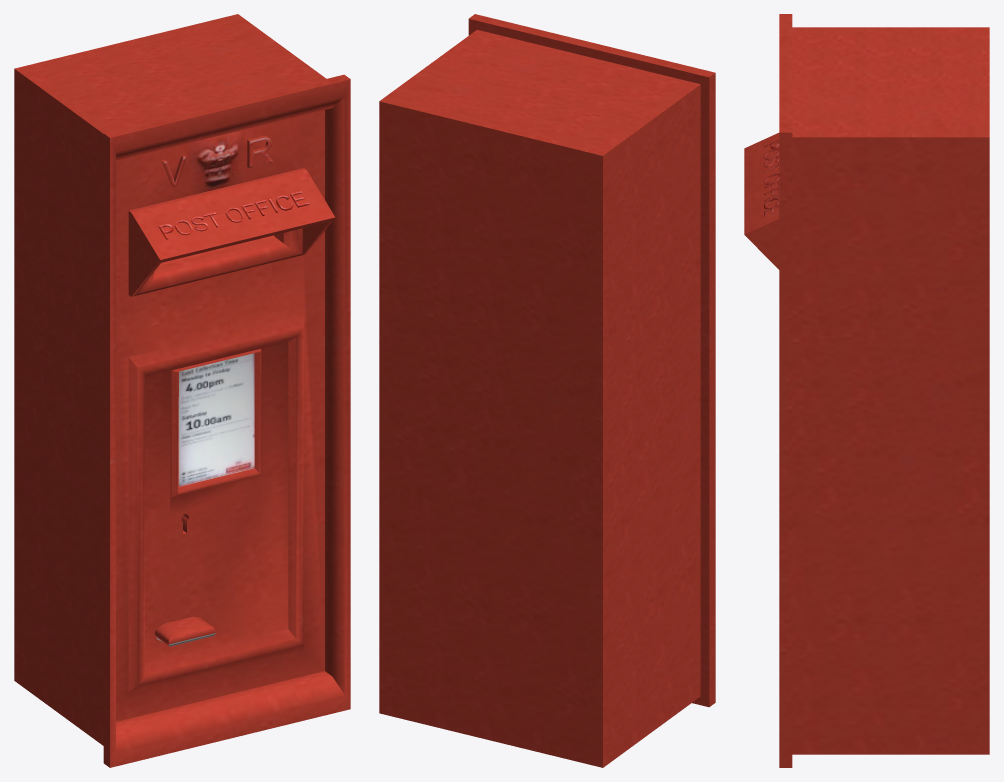
Rendered from UKInsetPostBox01.fbx.
The picture shows the model from 3 angles, left to right: view 1: azimuth 30°, elevation 25°; view 2: azimuth 150°, elevation 25°; view 3: azimuth 270°, elevation 25°; orthographic projection.
Parts seen in each view (by area): view 1: default; view 2: default; view 3: default.
Boxes of the visible parts, x1,y1,x2,y2 form: default: [14, 14, 350, 767]; default: [379, 14, 715, 767]; default: [744, 14, 989, 767].
Bounding box in the file's own units: 200 × 500 × 175.
